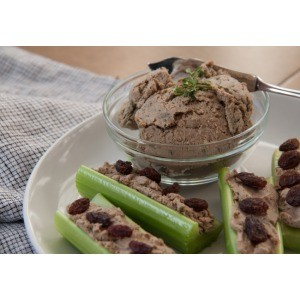liver_brain food: (79, 172, 285, 242), (113, 60, 243, 133)
